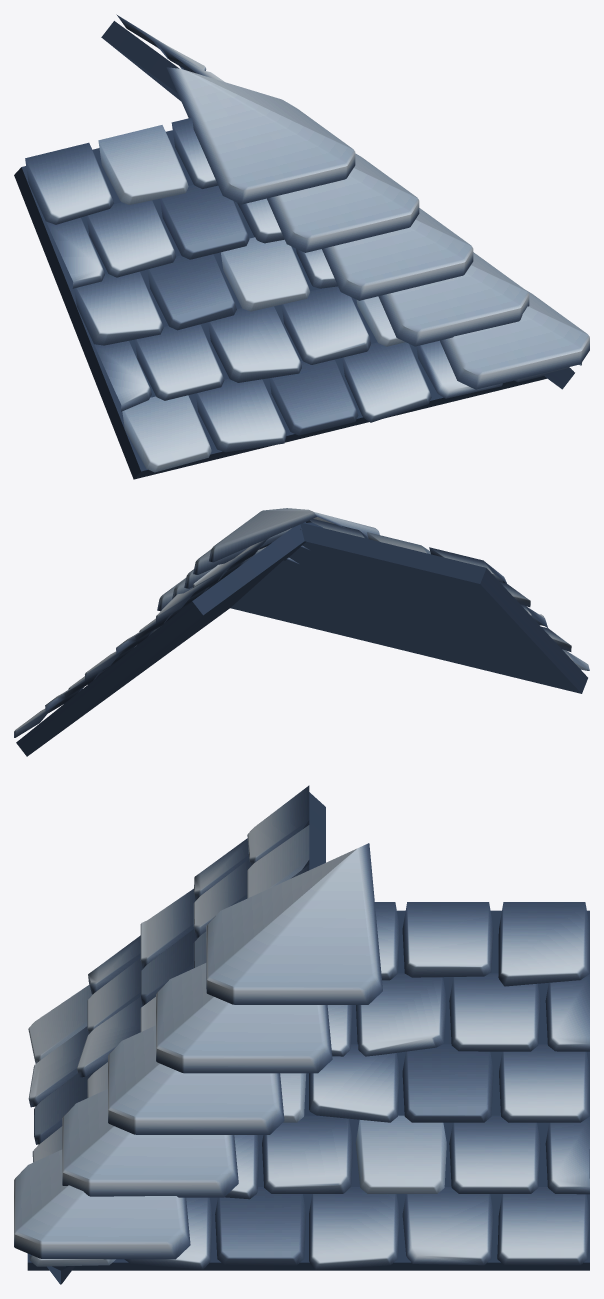
File: Roof_corner_01.fbx
3 renders of one model, top to bottom at view 1: azimuth 30°, elevation 25°; view 2: azimuth 150°, elevation 25°; view 3: azimuth 270°, elevation 25°, orthographic. The views are drawn at different scales.
Parts seen in each view (by area): view 1: Roof_Corner_01; view 2: Roof_Corner_01; view 3: Roof_Corner_01.
Boxes of the visible parts, left/top/right/bottom form: Roof_Corner_01: left=14, top=14, right=589, bottom=479; Roof_Corner_01: left=14, top=508, right=589, bottom=756; Roof_Corner_01: left=14, top=785, right=589, bottom=1284.
Size of the model in its own units: 6.11 by 3.5 by 6.15.
